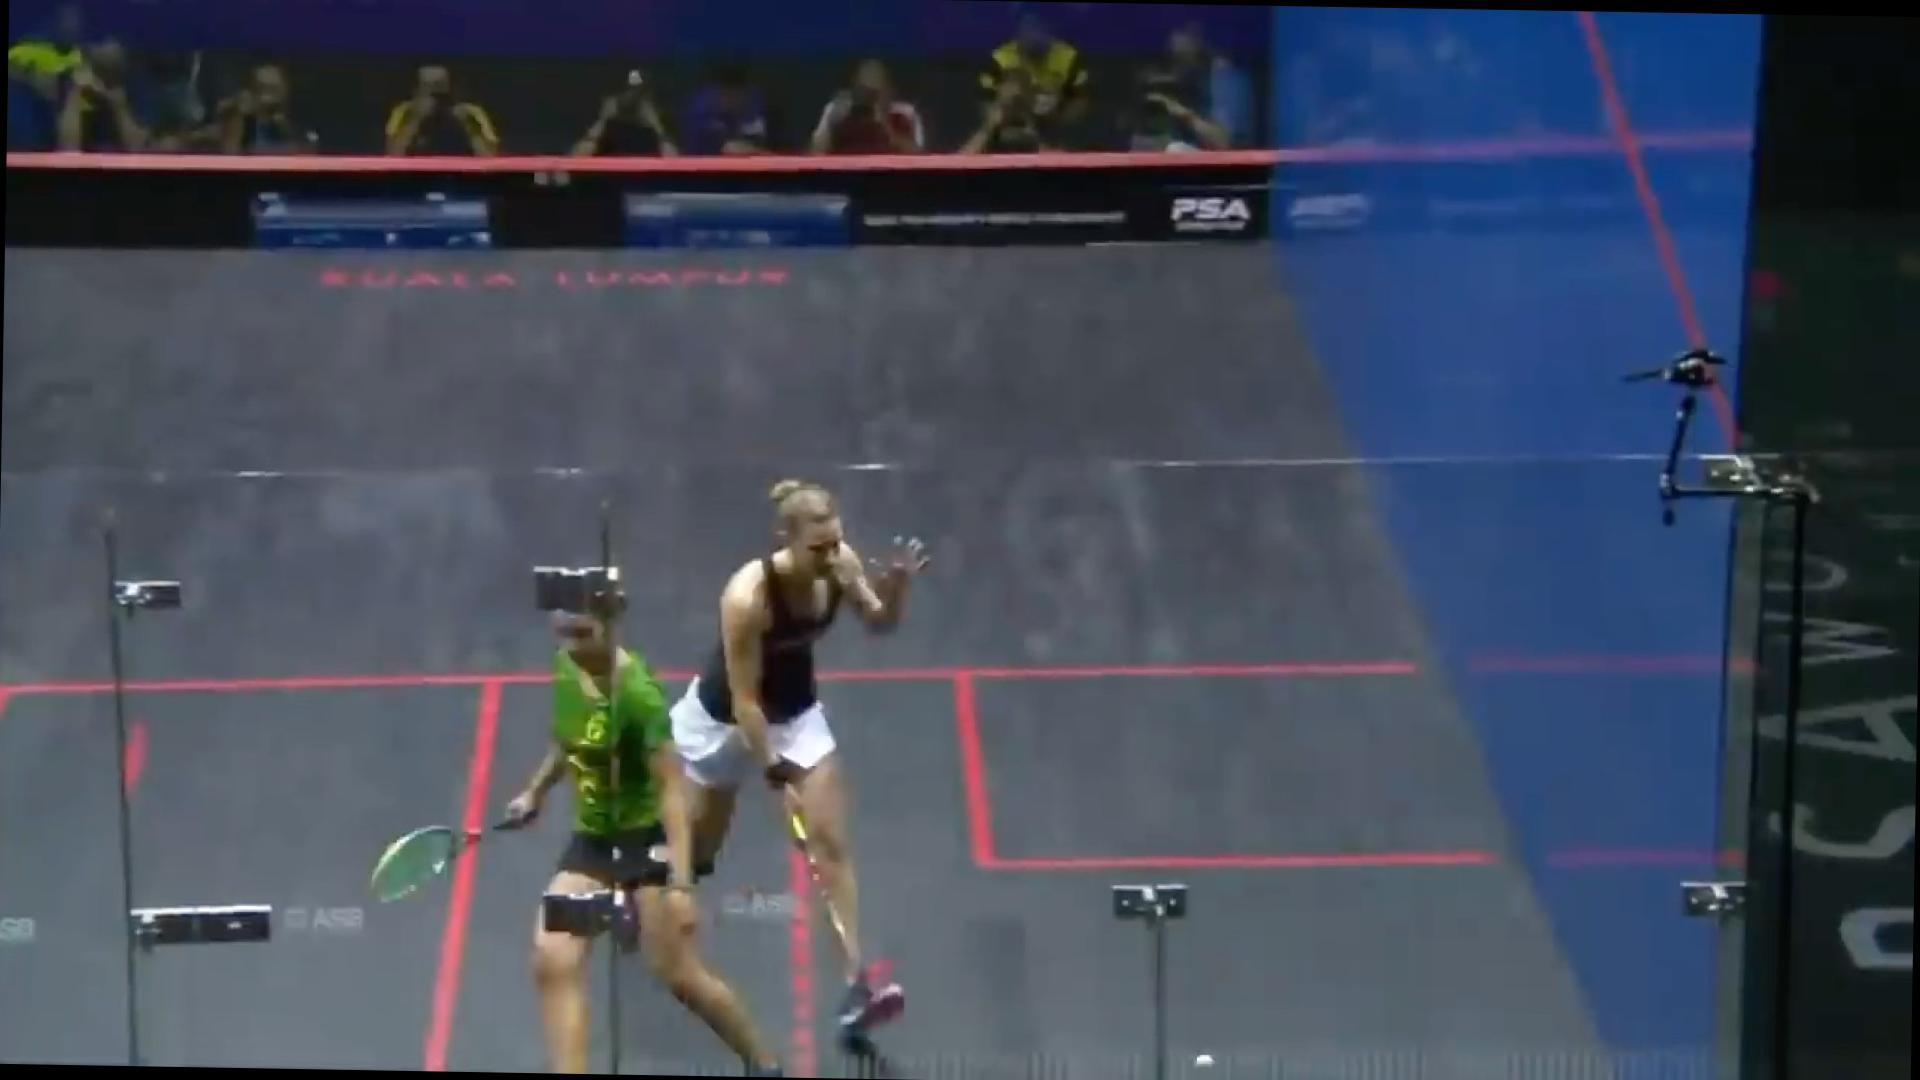Squash-Ball: (1175, 1036, 1233, 1080)
